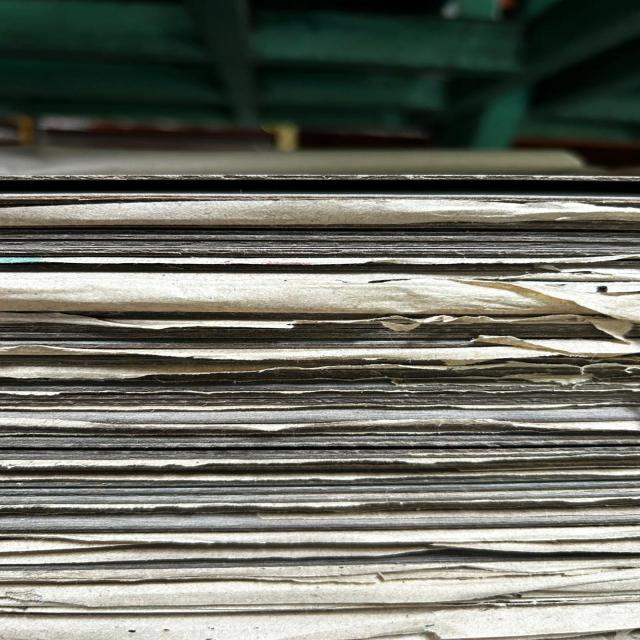sheet: (2, 188, 640, 222), (0, 275, 640, 308), (0, 216, 637, 246), (0, 163, 640, 192), (2, 308, 640, 334), (4, 508, 624, 534), (0, 365, 640, 390), (0, 335, 640, 360), (2, 463, 640, 487), (0, 615, 640, 638), (0, 541, 637, 564), (0, 494, 640, 514), (0, 437, 640, 455), (0, 592, 631, 610), (0, 418, 640, 435), (0, 383, 640, 400), (4, 253, 640, 270), (2, 567, 640, 583), (0, 398, 637, 413)
